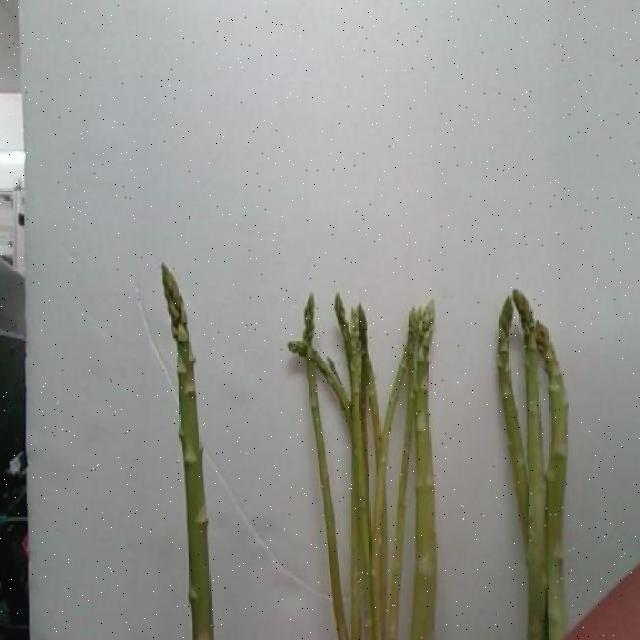aspargus: (160, 265, 214, 640), (531, 318, 571, 640), (408, 300, 438, 640)
